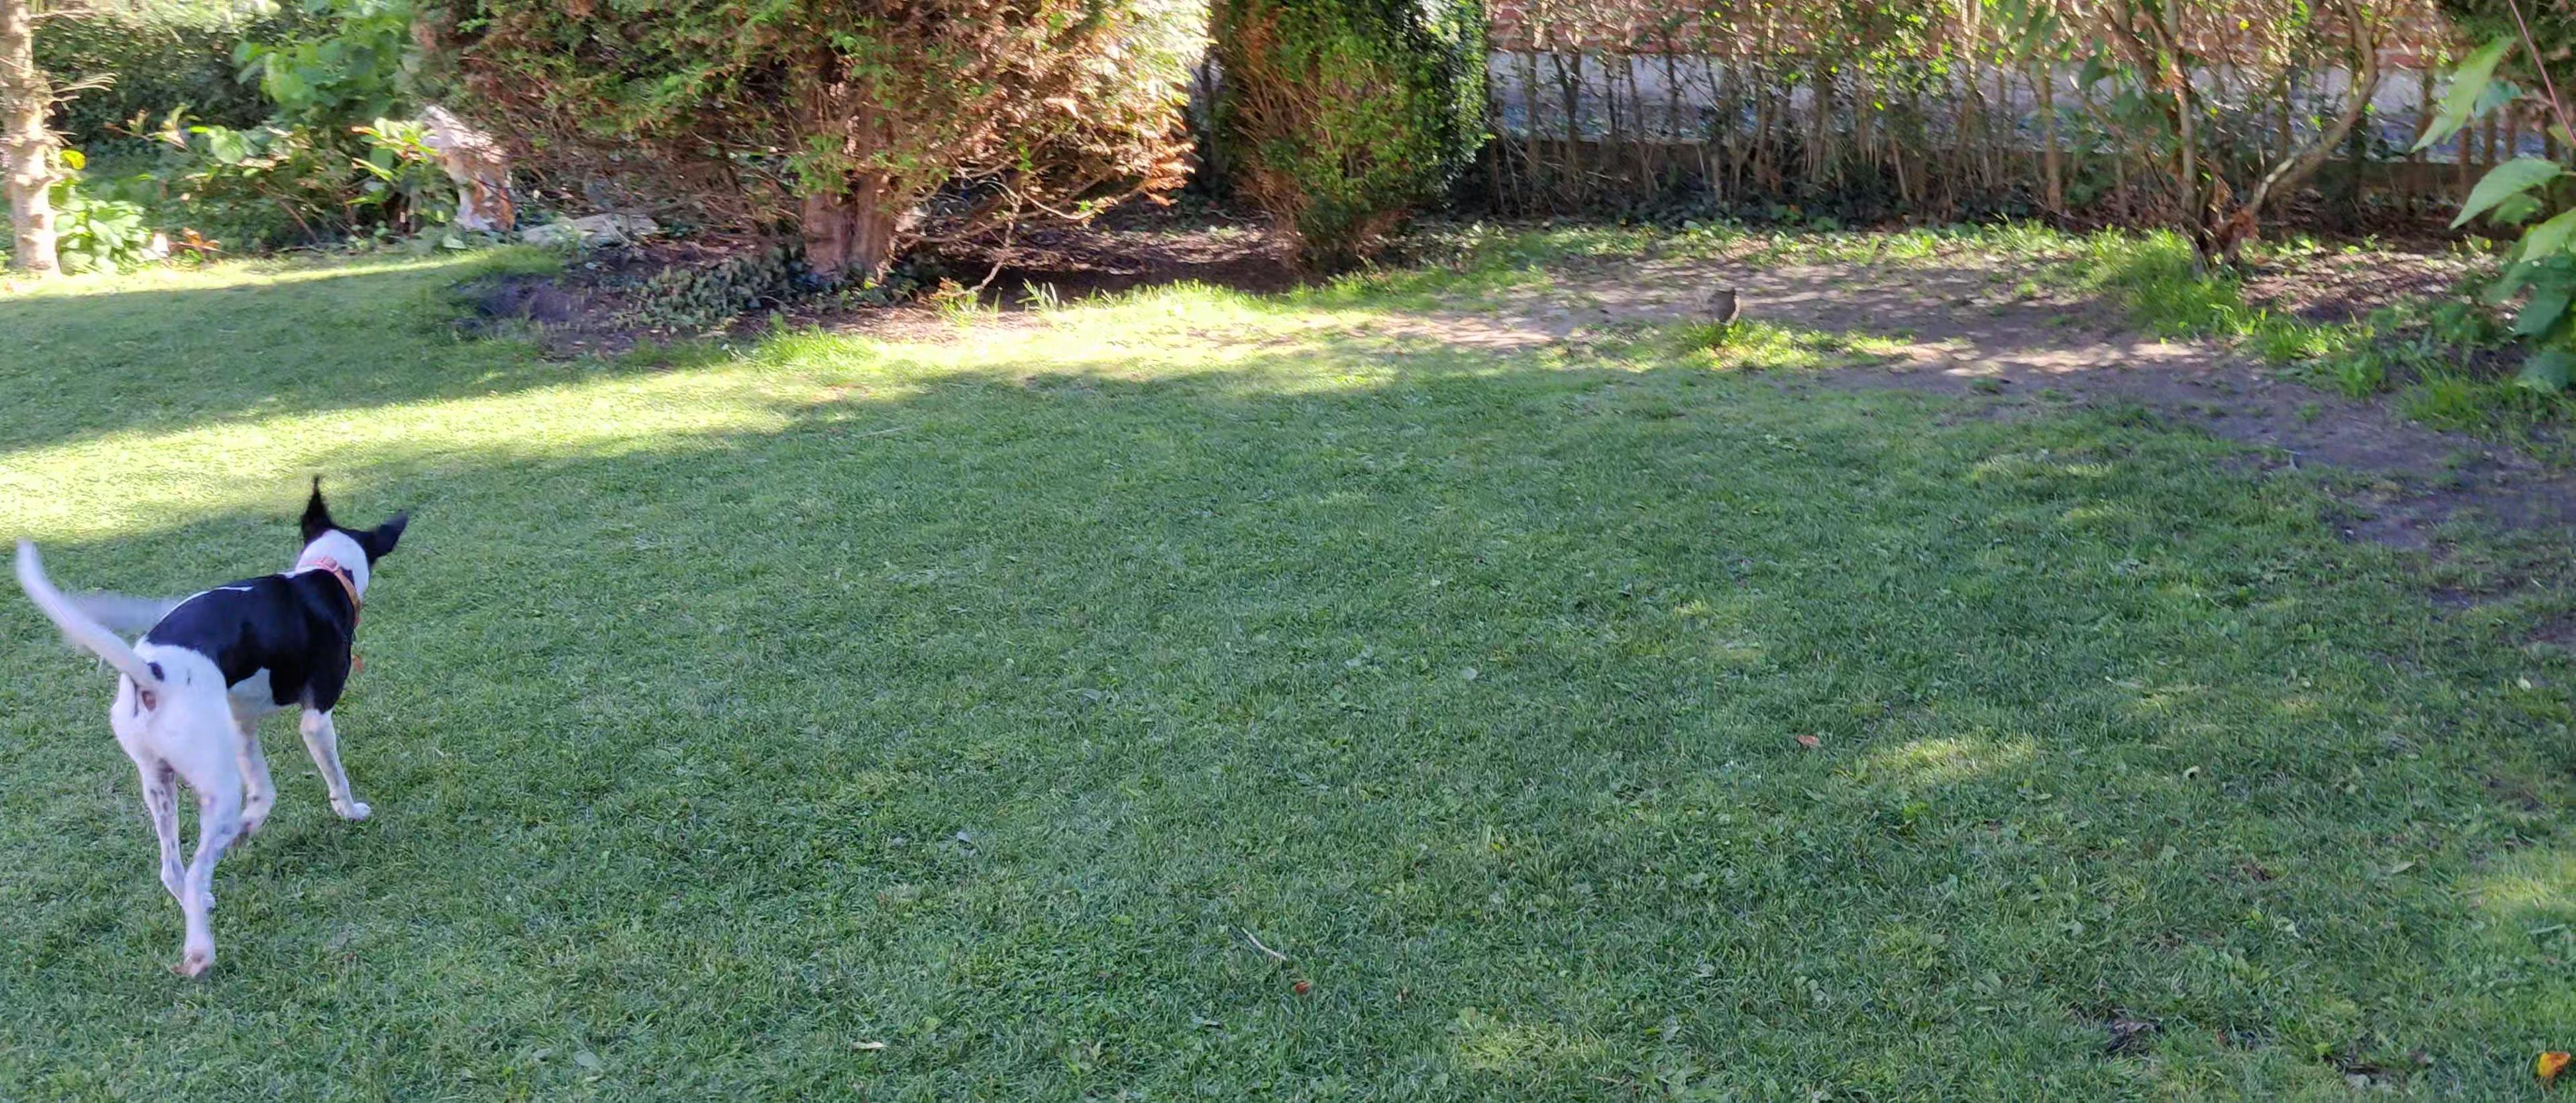Dog: (7, 470, 430, 1001)
